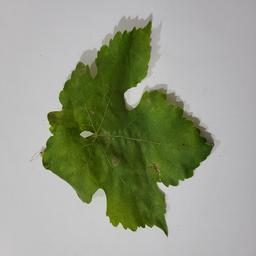Powdery-Mildew: (100, 122, 126, 145), (102, 154, 119, 171), (147, 160, 164, 176), (145, 96, 161, 112)
